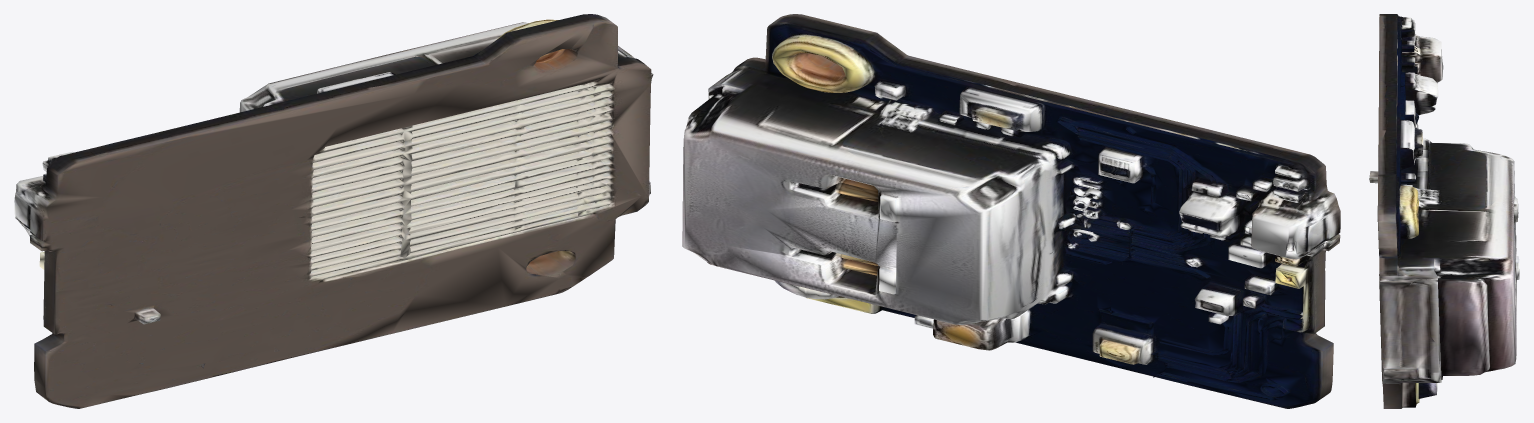
The model's file is usb-c.glb.
3 renders of one model, left to right at view 1: azimuth 30°, elevation 25°; view 2: azimuth 150°, elevation 25°; view 3: azimuth 270°, elevation 25°, orthographic. The views are drawn at different scales.
Parts seen in each view (by area): view 1: usb-c; view 2: usb-c; view 3: usb-c.
Part boxes in pixels (x1,y1,x2,y2): usb-c: (14, 14, 653, 408); usb-c: (682, 14, 1340, 408); usb-c: (1369, 14, 1519, 408).
Size of the model in its own units: 0.08 by 0.0333 by 0.0213.
Materials: 1 (1 with a texture image).
